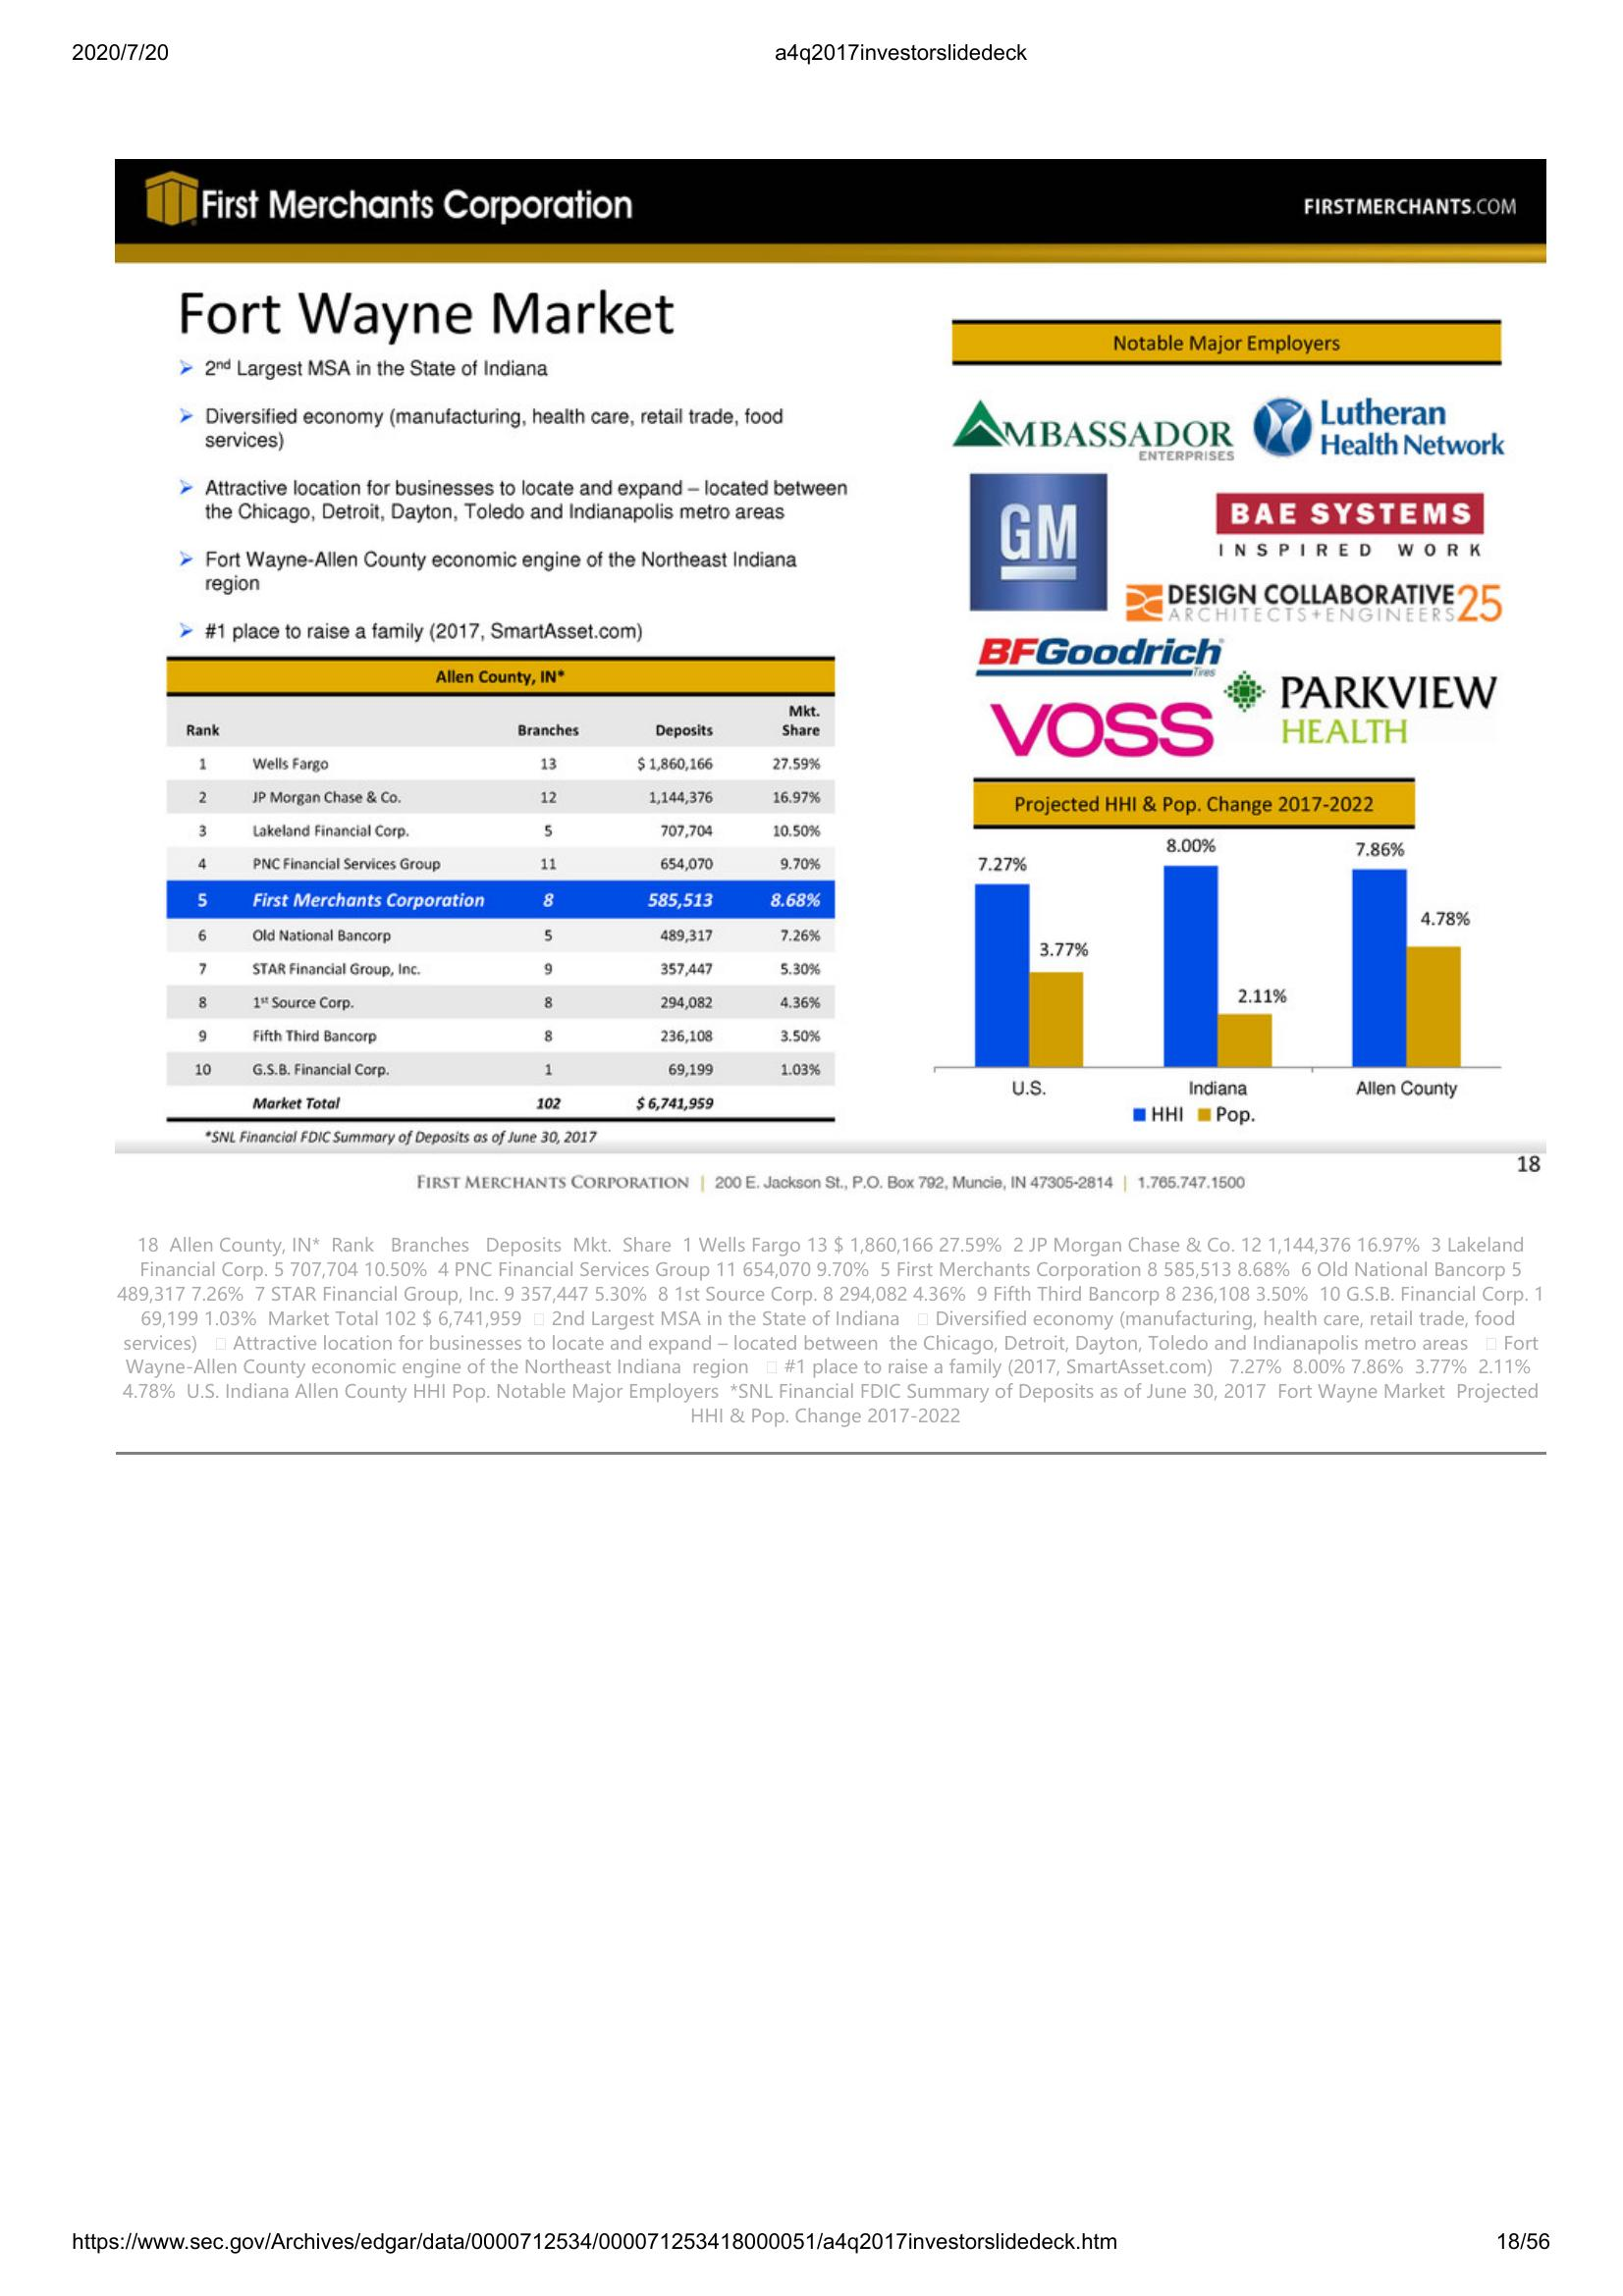table: (160, 651, 840, 1125)
